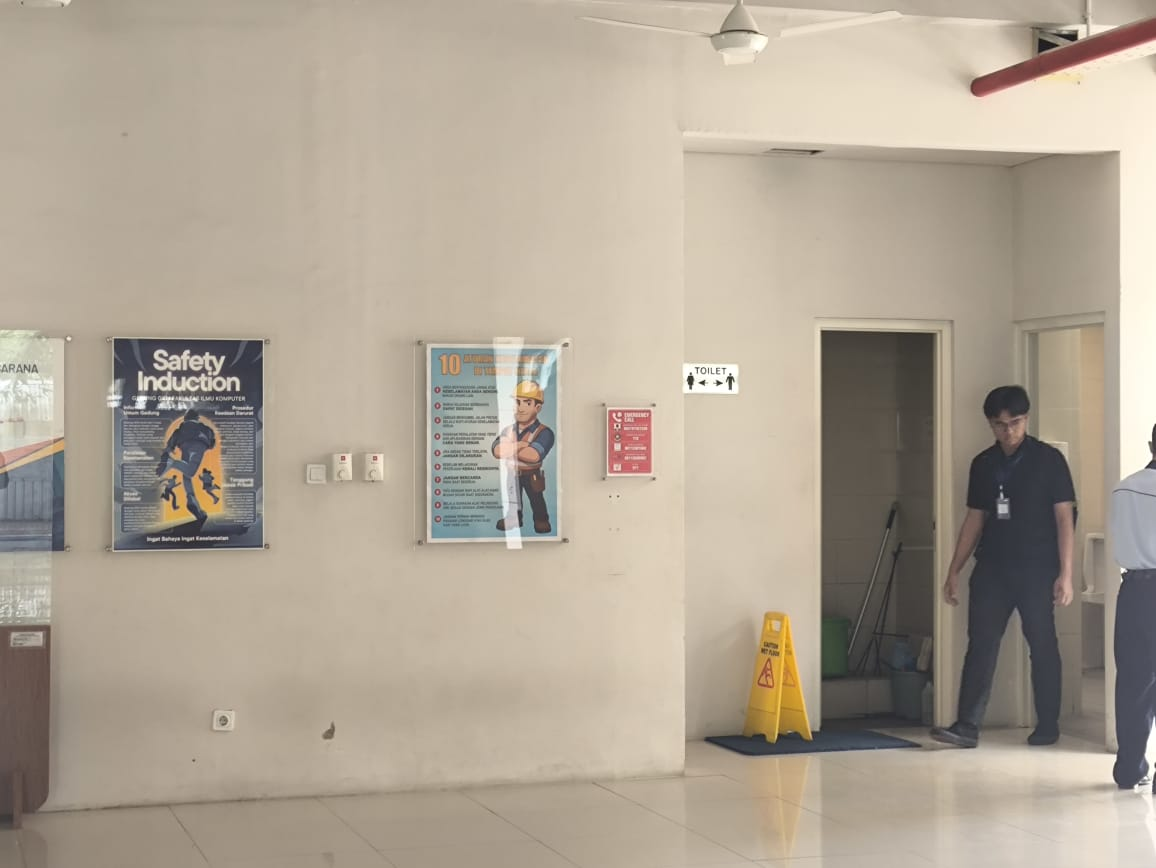toilet: (673, 362, 747, 398)
